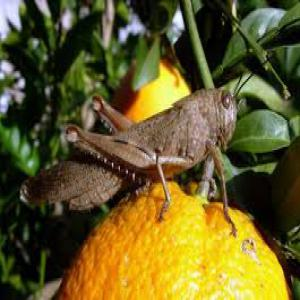locust: (15, 53, 258, 221)
